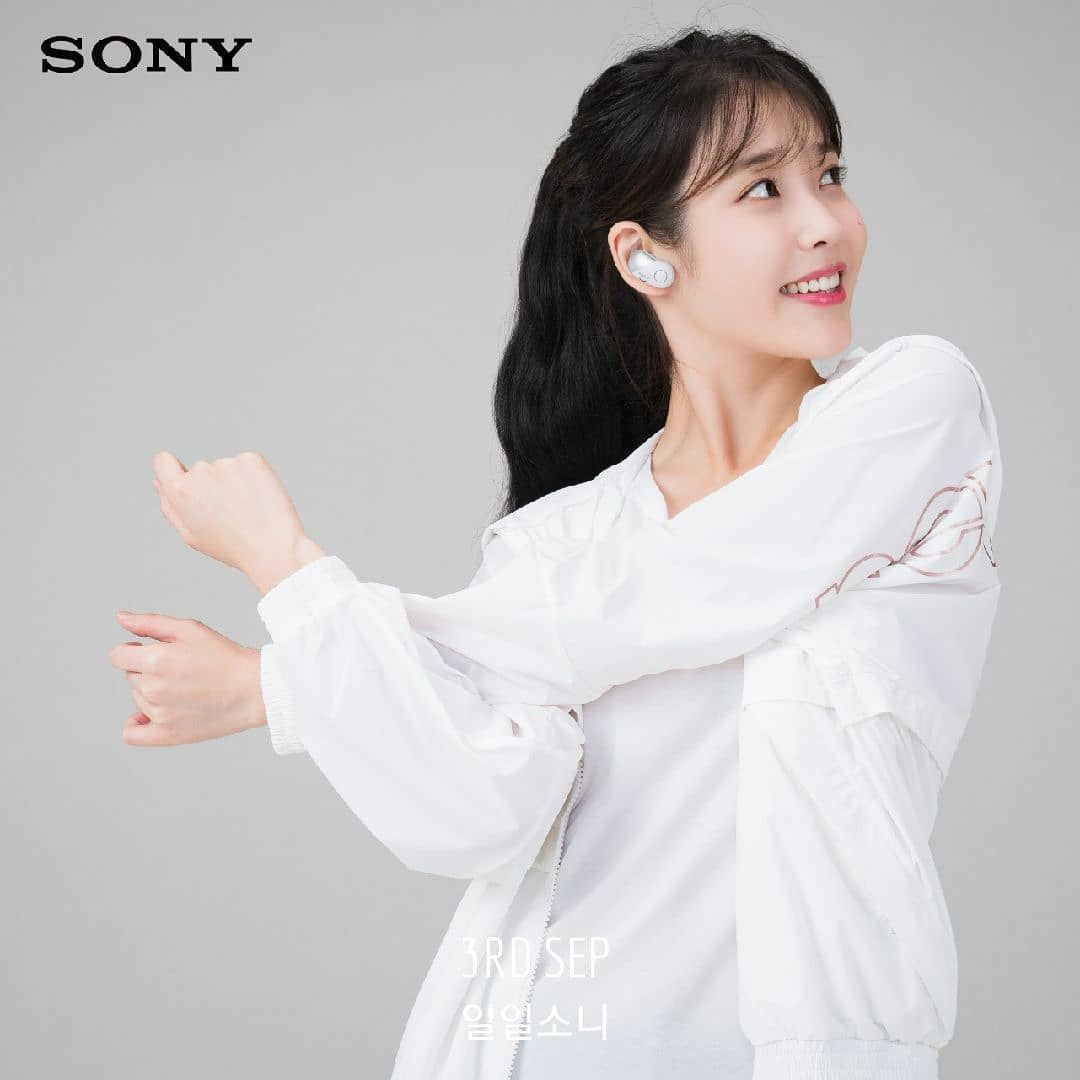earphone: (608, 220, 680, 298)
